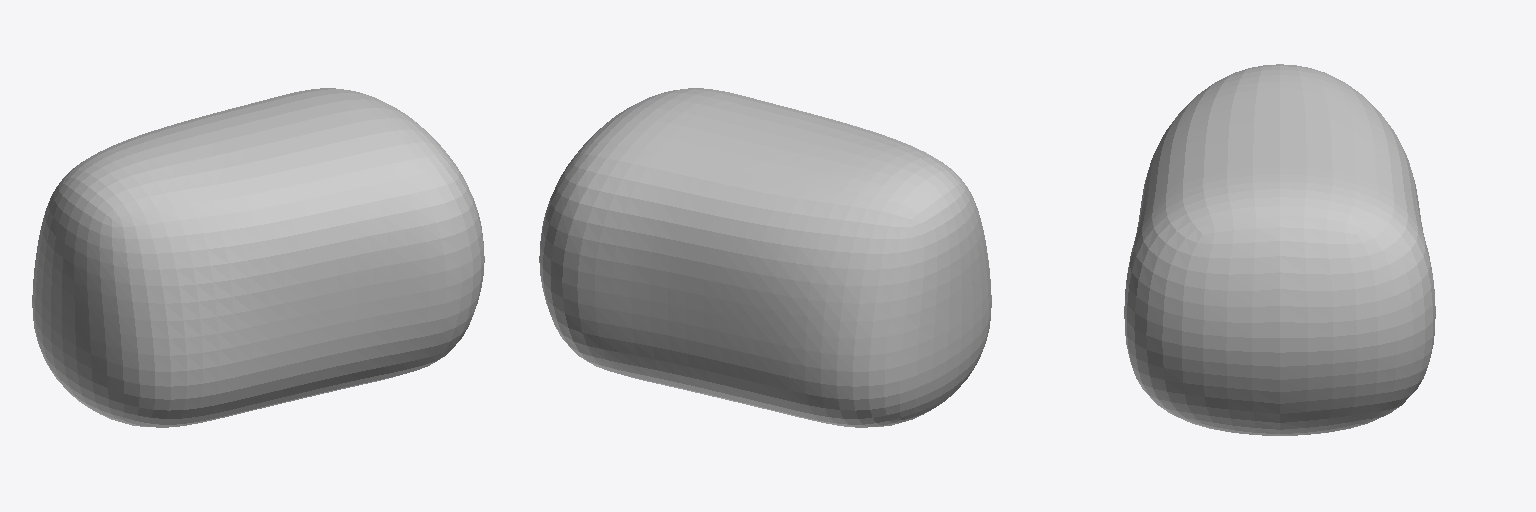
The model's file is pigbody.obj.
3 views of the same model, side by side, from view 1: azimuth 30°, elevation 25°; view 2: azimuth 150°, elevation 25°; view 3: azimuth 270°, elevation 25° (orthographic).
Visible parts, largest first — view 1: Cube.001; view 2: Cube.001; view 3: Cube.001.
Part boxes in pixels (bbox=[...]): Cube.001: bbox=[32, 88, 484, 427]; Cube.001: bbox=[539, 88, 991, 427]; Cube.001: bbox=[1124, 64, 1435, 435].
Bounding box in the file's own units: 3.15 × 1.92 × 2.19.